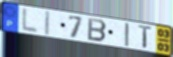7: (67, 15, 85, 40)
B: (87, 17, 109, 43)
I: (43, 10, 52, 38), (124, 22, 131, 48)
L: (21, 7, 40, 35)
T: (137, 24, 154, 50)
